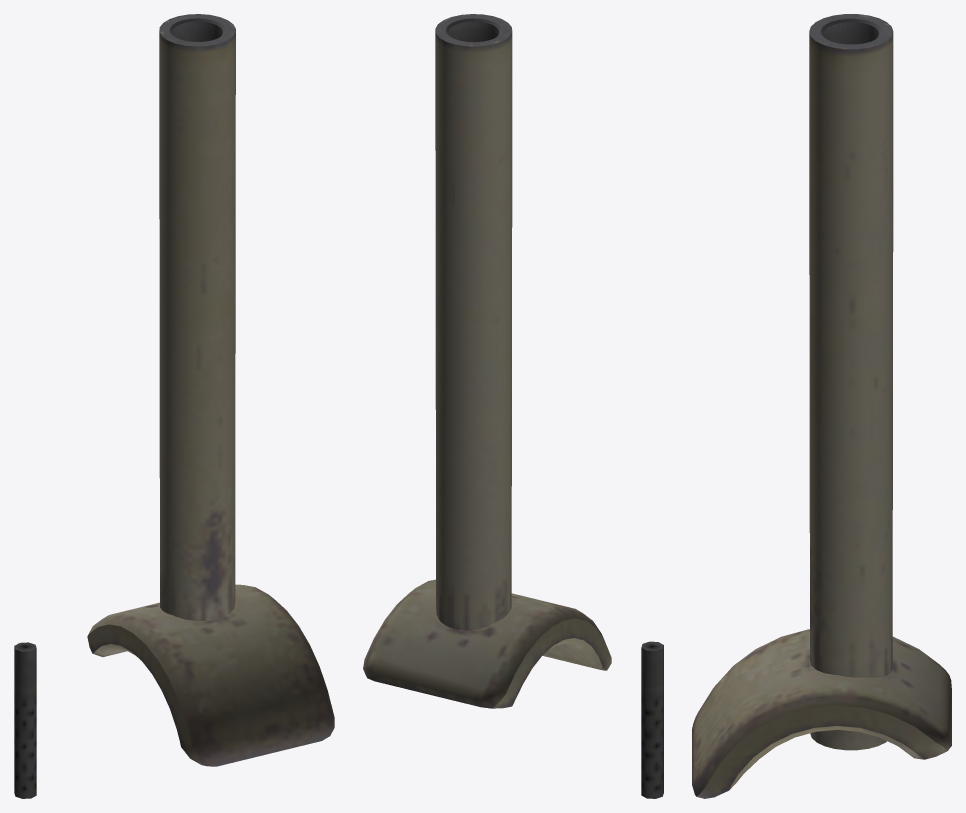
Rendered from Gun_02.glb.
3 renders of one model, left to right at view 1: azimuth 30°, elevation 25°; view 2: azimuth 150°, elevation 25°; view 3: azimuth 270°, elevation 25°, orthographic. The views are drawn at different scales.
Parts seen in each view (by area): view 1: set_0_group_0; view 2: set_0_group_0; view 3: set_0_group_0.
Part boxes in pixels (x1,y1,x2,y2): set_0_group_0: (14, 14, 334, 798); set_0_group_0: (363, 14, 663, 798); set_0_group_0: (692, 14, 951, 798).
Bounding box in the file's own units: 0.6121 × 1.63 × 0.4888.
Materials: 1 (1 with a texture image).
